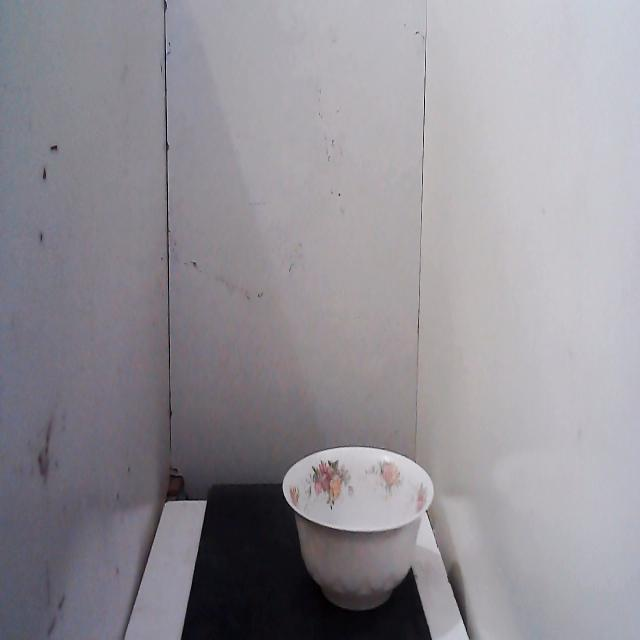plastico: (278, 428, 438, 616)
